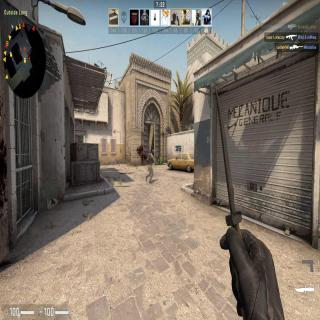CT-Body: (146, 148, 156, 179)
CT-Head: (152, 150, 154, 154)
